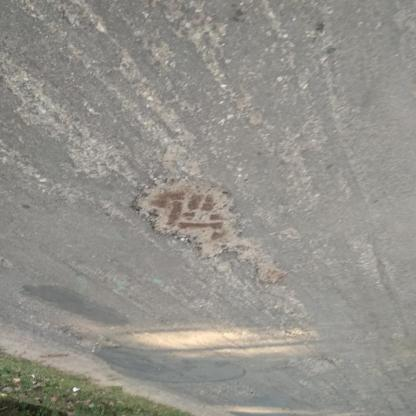pothole: (125, 174, 247, 262), (60, 326, 122, 353), (255, 259, 287, 288)
